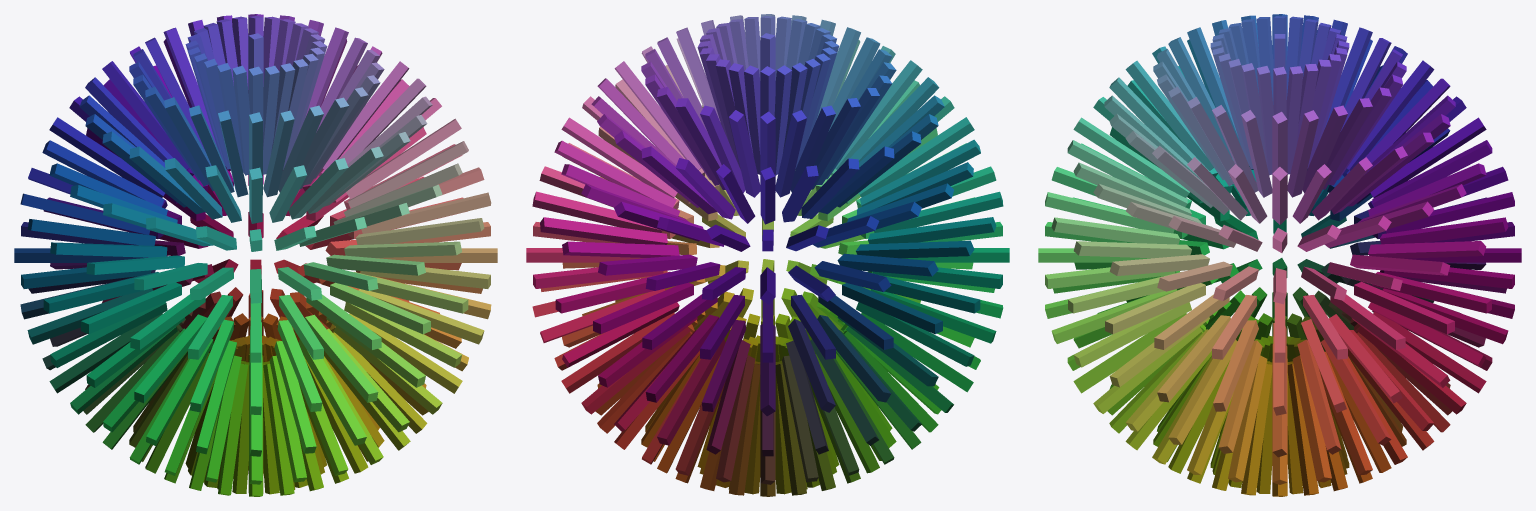
The model's file is BoxesAroundSphere.fbx.
The picture shows the model from 3 angles, left to right: view 1: azimuth 30°, elevation 25°; view 2: azimuth 150°, elevation 25°; view 3: azimuth 270°, elevation 25°; orthographic projection.
Parts seen in each view (by area): view 1: OUT_PP; view 2: OUT_PP; view 3: OUT_PP.
Part boxes in pixels (box(x1,y1,x2,y2)): OUT_PP: box(14, 14, 497, 496); OUT_PP: box(526, 14, 1009, 496); OUT_PP: box(1038, 14, 1521, 496).
Bounding box in the file's own units: 440 × 440 × 440.
